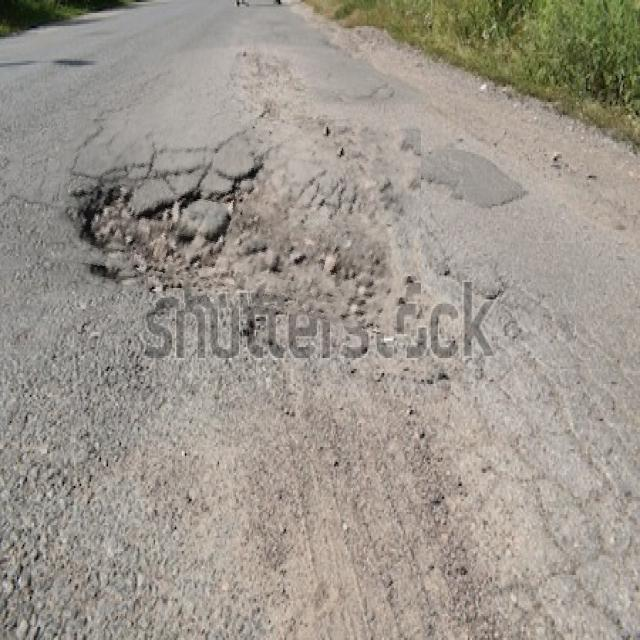Pothole: (51, 119, 421, 318)
